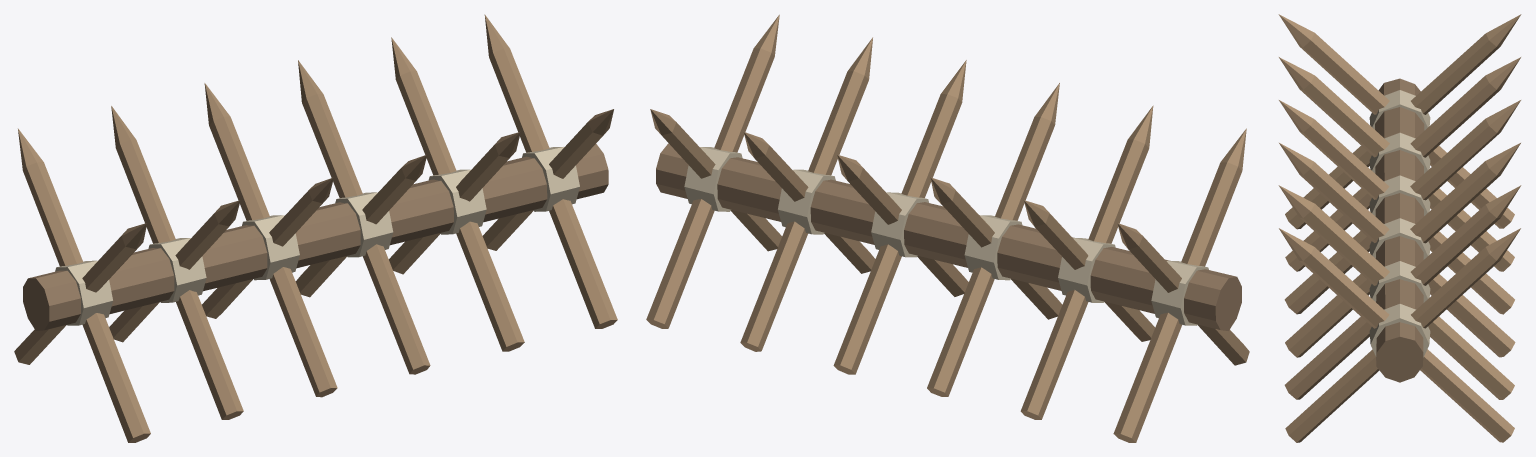
3 renders of one model, left to right at view 1: azimuth 30°, elevation 25°; view 2: azimuth 150°, elevation 25°; view 3: azimuth 270°, elevation 25°, orthographic. The views are drawn at different scales.
Visible parts, largest first — view 1: P04_尖桩, P04_横木, P04_绑绳; view 2: P04_尖桩, P04_横木, P04_绑绳; view 3: P04_尖桩, P04_横木, P04_绑绳.
Part boxes in pixels (<box>): P04_尖桩: <box>14,14,617,442</box>; P04_横木: <box>23,143,608,330</box>; P04_绑绳: <box>55,147,579,325</box>; P04_尖桩: <box>646,14,1249,442</box>; P04_横木: <box>656,143,1241,330</box>; P04_绑绳: <box>684,147,1208,325</box>; P04_尖桩: <box>1278,14,1521,442</box>; P04_横木: <box>1375,78,1424,382</box>; P04_绑绳: <box>1369,90,1430,357</box>.
Size of the model in its own units: 300 by 117 by 120.
